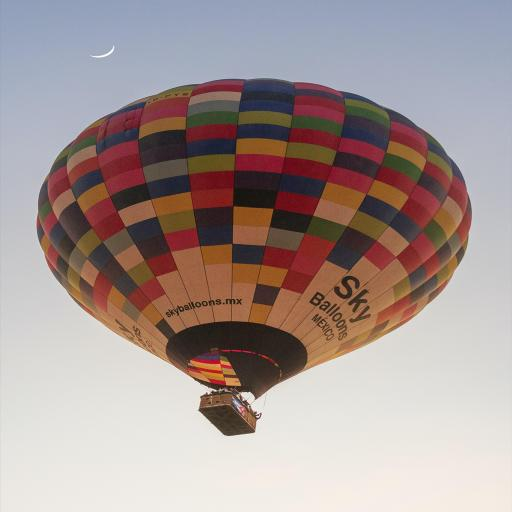hot air ballon: (34, 74, 470, 440)
